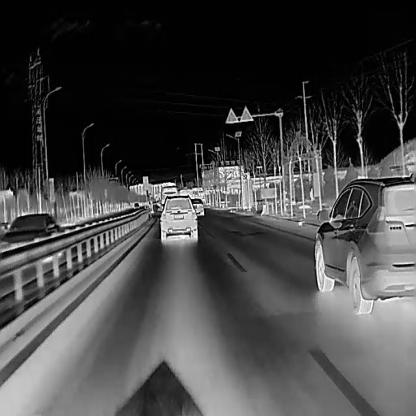bus: (160, 186, 176, 208)
car: (313, 170, 415, 314), (0, 212, 64, 263), (158, 194, 198, 244), (191, 198, 204, 216), (131, 202, 139, 208)
